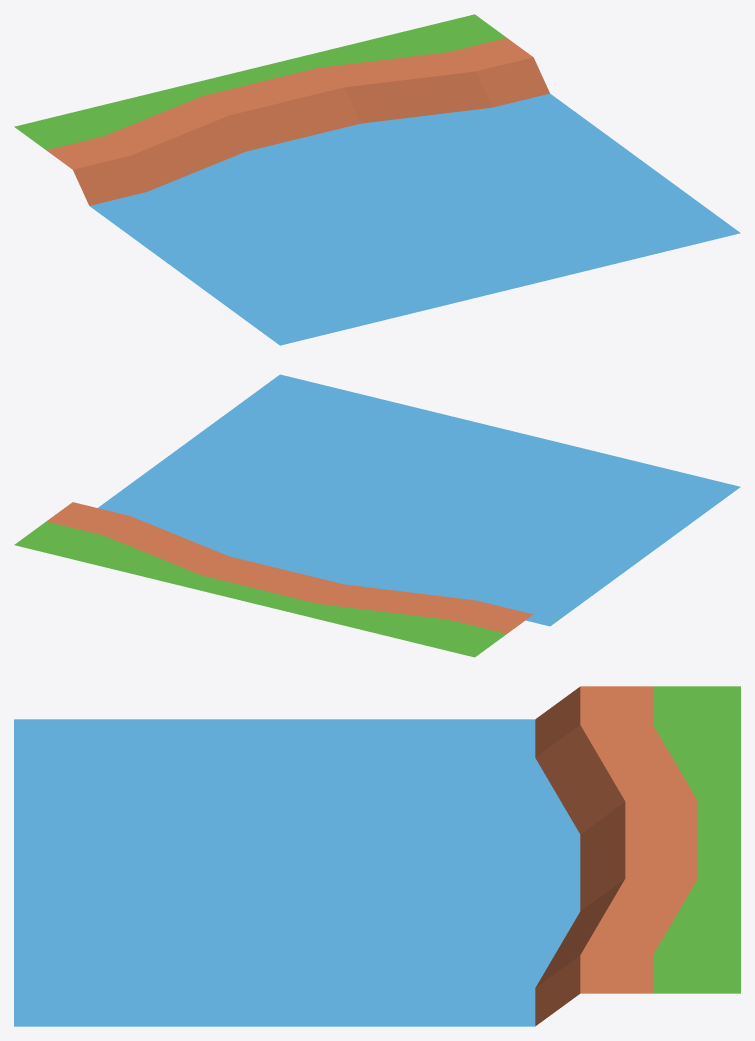
Rendered from ground_riverSide.glb.
3 views of the same model, one above another, from view 1: azimuth 30°, elevation 25°; view 2: azimuth 150°, elevation 25°; view 3: azimuth 270°, elevation 25° (orthographic). The views are drawn at different scales.
Parts seen in each view (by area): view 1: ground_riverSide; view 2: ground_riverSide; view 3: ground_riverSide.
Boxes of the visible parts, left/top/right/bottom form: ground_riverSide: left=14, top=14, right=740, bottom=345; ground_riverSide: left=14, top=374, right=740, bottom=657; ground_riverSide: left=14, top=686, right=740, bottom=1026.
Size of the model in its own units: 1 by 0.05 by 1.
